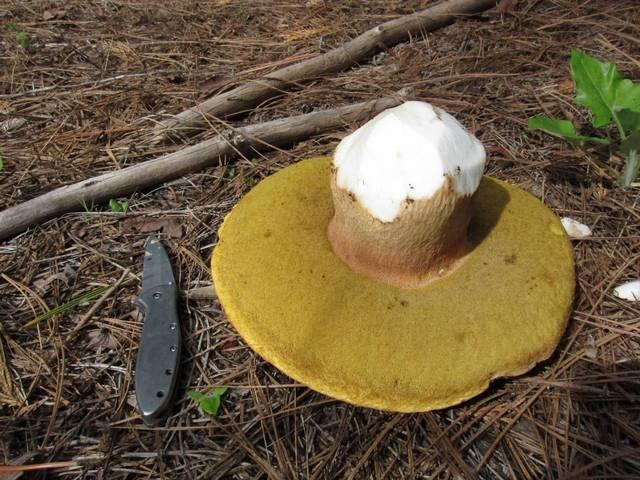Edible Mushroom: (209, 99, 576, 413)
